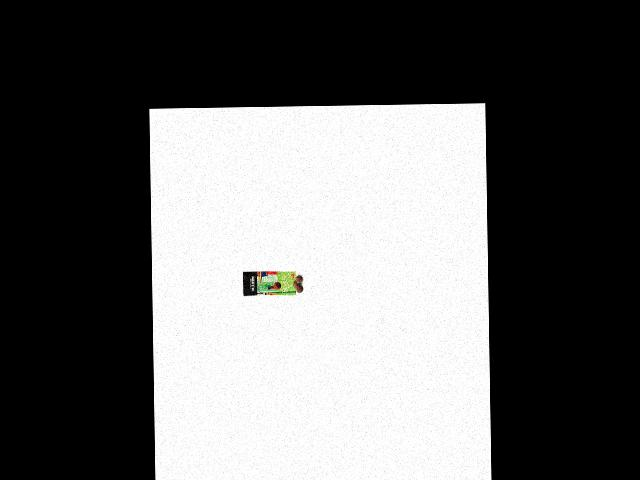chocolate: (240, 267, 297, 302)
